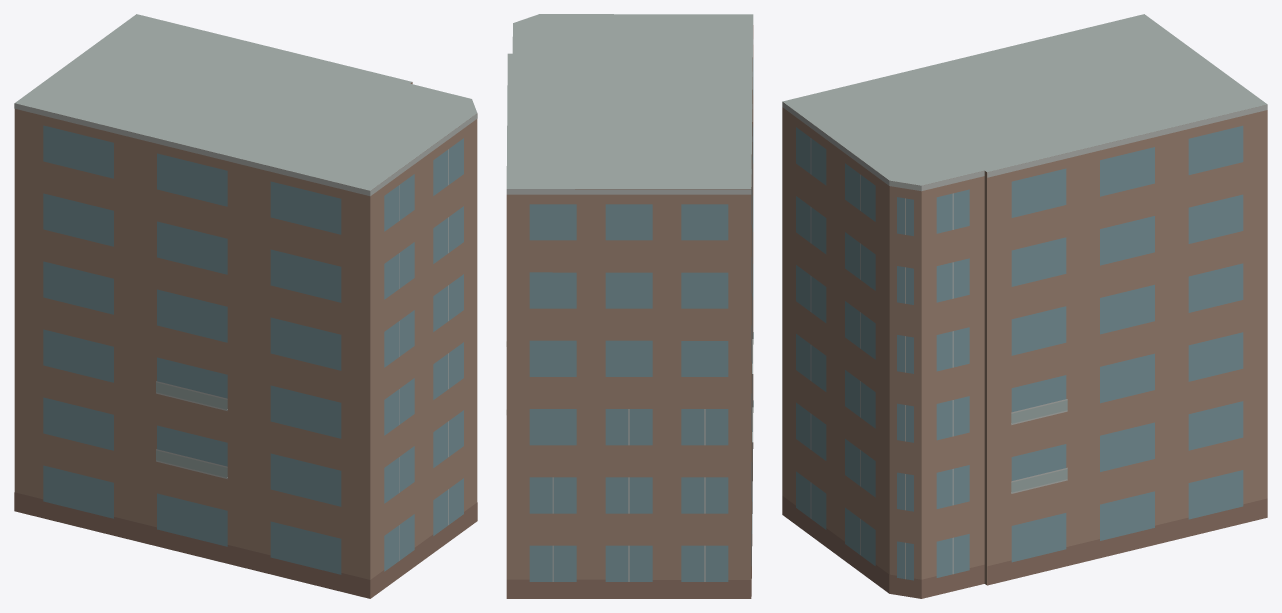
File: survey-upis-32611607.glb
3 renders of one model, left to right at view 1: azimuth 30°, elevation 25°; view 2: azimuth 150°, elevation 25°; view 3: azimuth 270°, elevation 25°, orthographic.
Parts seen in each view (by area): view 1: survey-upis-32611607.tmp; view 2: survey-upis-32611607.tmp; view 3: survey-upis-32611607.tmp.
Boxes of the visible parts, x1=… form: survey-upis-32611607.tmp: x1=14, y1=14, x2=477, y2=598; survey-upis-32611607.tmp: x1=506, y1=14, x2=753, y2=598; survey-upis-32611607.tmp: x1=782, y1=14, x2=1267, y2=598.
Size of the model in its own units: 16.32 by 18.3 by 19.49.
